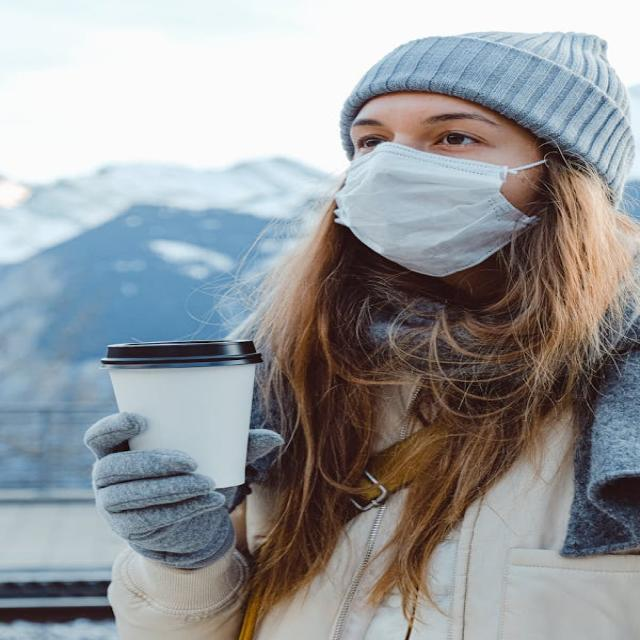mask: (312, 83, 585, 288)
